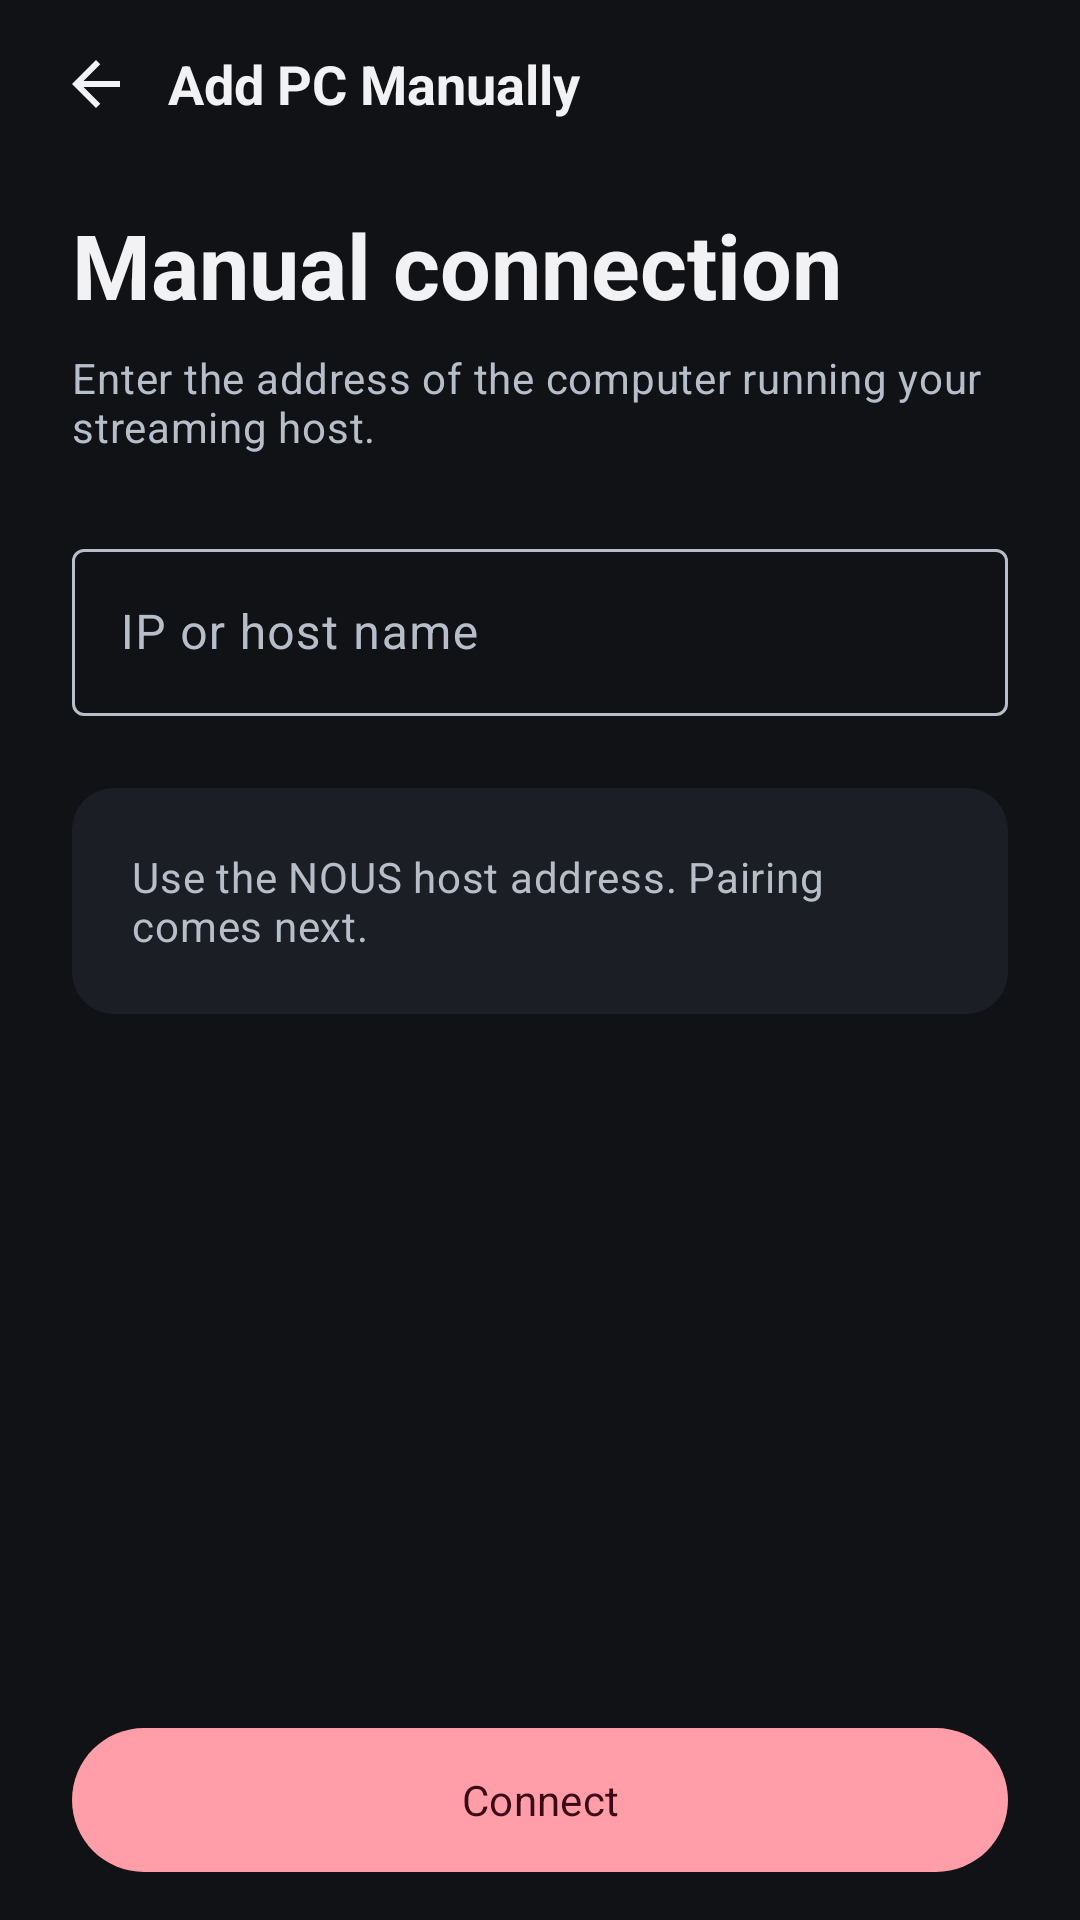

Point at icon controls on the screen. Image size 1080w x 1920h, points as (x=x, y=y).
Back: (x=96, y=84)
